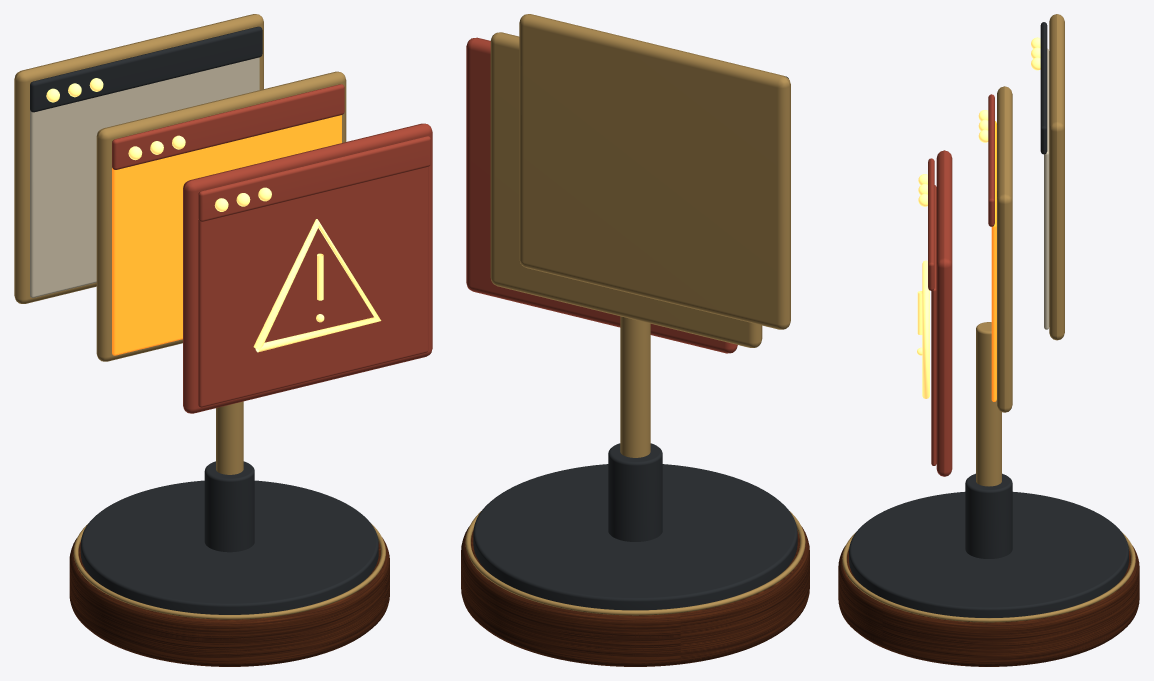
Rendered from escritorio_janelas_alerta.glb.
3 views of the same model, side by side, from view 1: azimuth 30°, elevation 25°; view 2: azimuth 150°, elevation 25°; view 3: azimuth 270°, elevation 25° (orthographic). The views are drawn at different scales.
Parts seen in each view (by area): view 1: janelas_alerta; view 2: janelas_alerta; view 3: janelas_alerta.
Boxes of the visible parts, left/top/right/bottom form: janelas_alerta: left=14, top=14, right=432, bottom=666; janelas_alerta: left=461, top=14, right=809, bottom=666; janelas_alerta: left=838, top=14, right=1139, bottom=666.
Size of the model in its own units: 0.295 by 0.432 by 0.23.
Materials: 7 (1 with a texture image).
